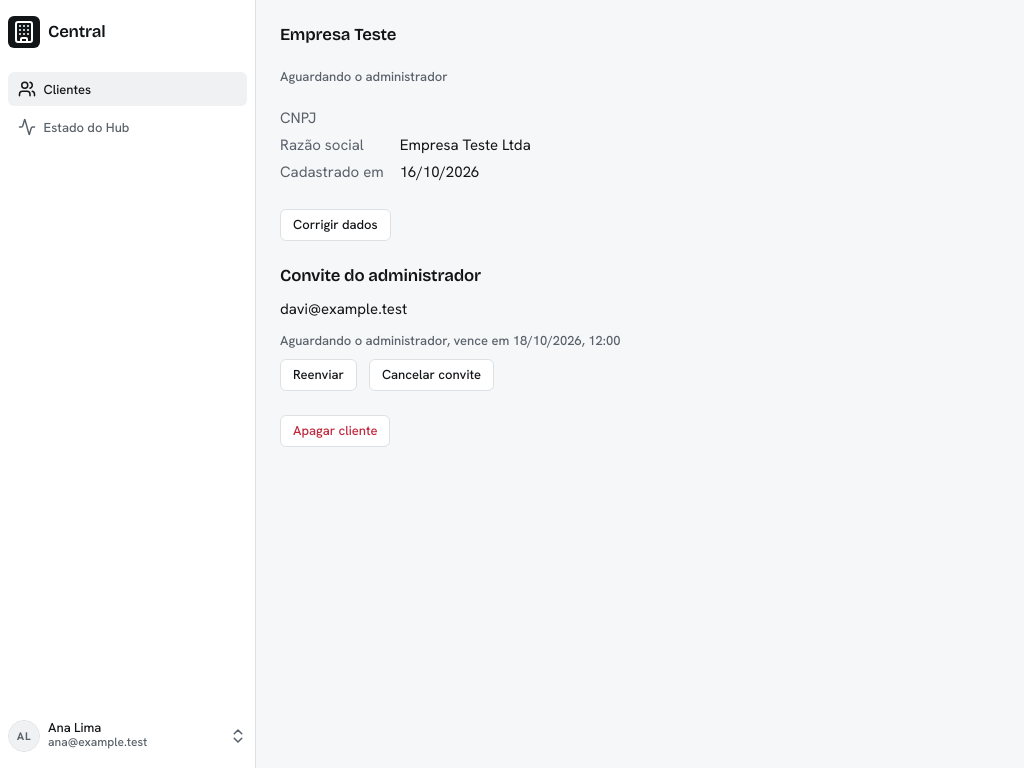
Test: vazio: o título, o que sai, o campo com o foco, Cancelar e Apagar cliente desabilitado
(page scrolled)
Click the button "Apagar cliente" at (335, 431), box [280,415,390,447]
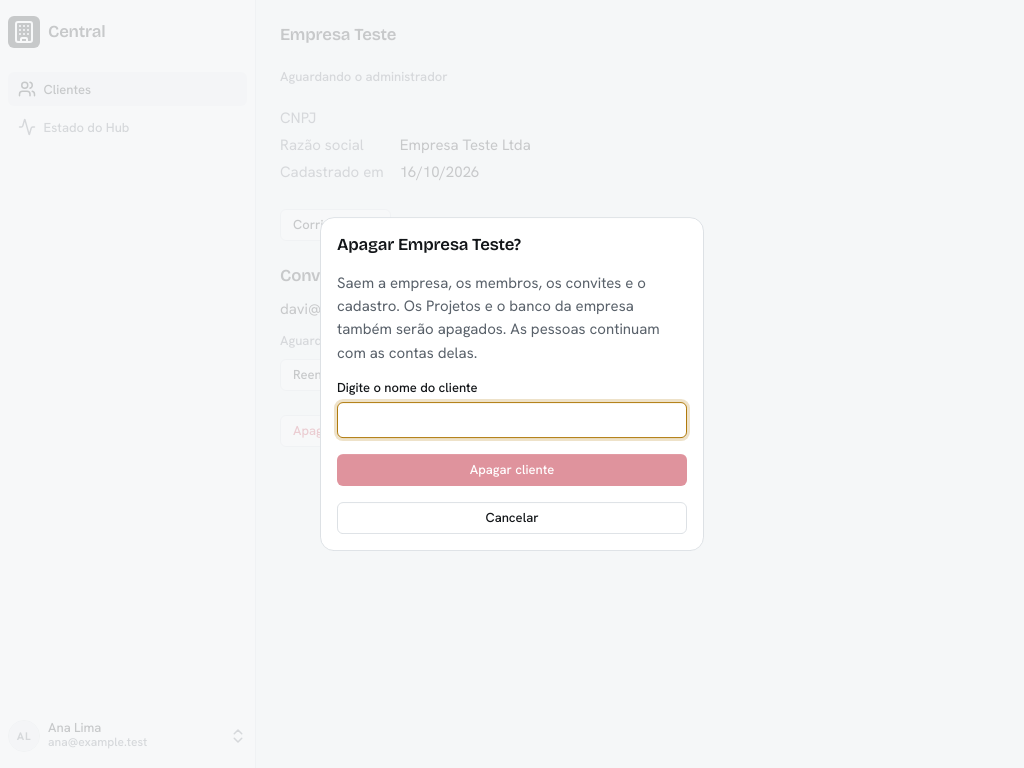
Now the heading "Apagar Empresa Teste?" is shown, box [337,234,521,255]
Now the dialog shows "Saem a empresa, os membros, os convites e o cadastro. Os Projetos e o banco da empresa também serão apagados. As pessoas continuam com as contas delas.", box [337,273,660,363]
Now the button "Apagar cliente" is disabled, box [337,454,687,486]
Click the button "Cancelar" at (512, 518), box [337,502,687,534]
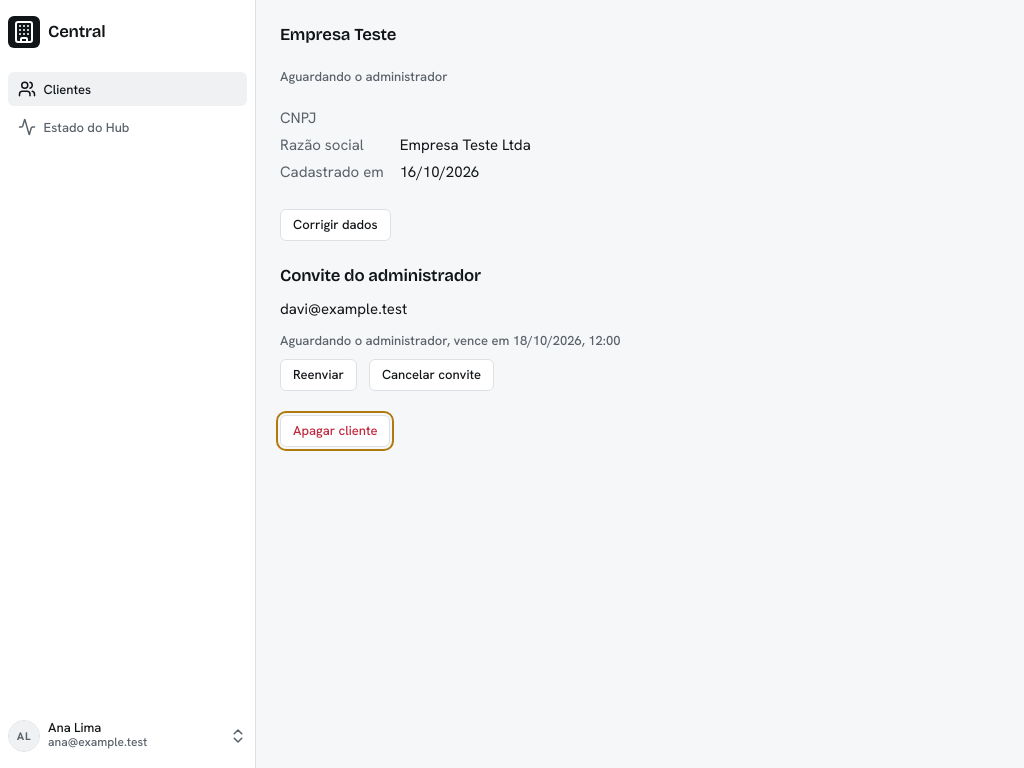
Expected: the button "Corrigir dados" is shown, [280,209,391,241]
Now the dialog is gone
